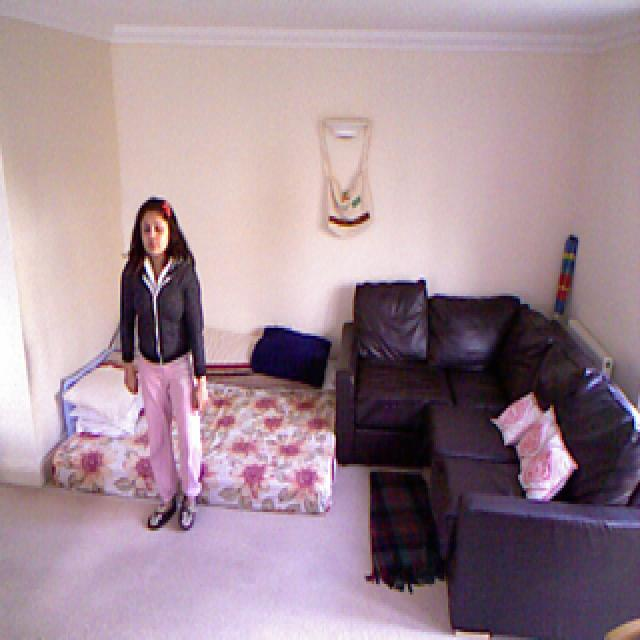standing: (120, 198, 208, 532)
